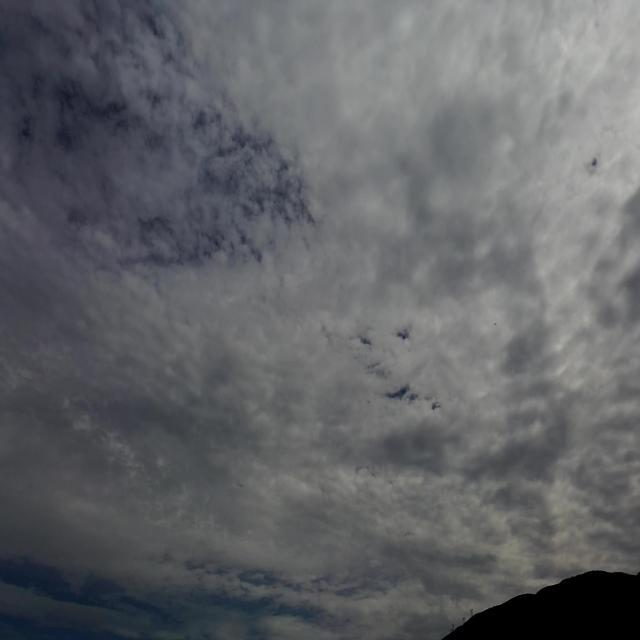Birds: (492, 319, 499, 328)
